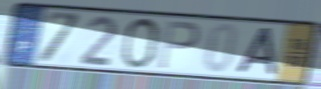0: (202, 21, 241, 75)
2: (78, 13, 119, 68)
7: (38, 10, 82, 65)
A: (234, 26, 279, 77)
O: (119, 16, 162, 70)
P: (156, 18, 202, 71)
